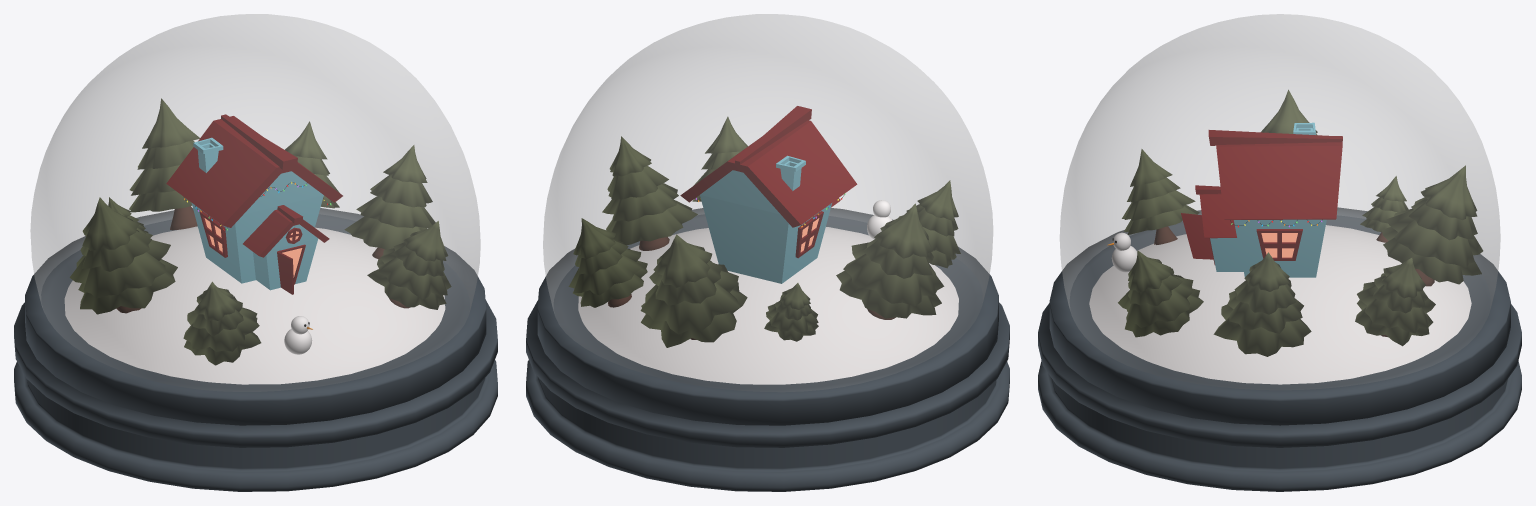
Rendered from EsferaNavidadRA2.glb.
3 views of the same model, side by side, from view 1: azimuth 30°, elevation 25°; view 2: azimuth 150°, elevation 25°; view 3: azimuth 270°, elevation 25° (orthographic).
Visible parts, largest first — view 1: esfera, Base, Cubo, Plano.001, Plano, Cono.005, Cono.007, Plano.007, Cono.004, Cono.021, Cono.001, Cono.017 (+21 smaller); view 2: esfera, Base, Cubo, Plano, Plano.001, Cono.025, Cono.005, Cono.016, Cono.027, Cono.007, Cono.004, Cono.024 (+17 smaller); view 3: esfera, Base, Cubo, Plano.001, Plano, Cono.025, Cono.016, Cono.024, Cono.021, Cono.027, Cono.013, Cono.017 (+20 smaller).
Boxes of the visible parts, x1,y1,x2,y2 form: esfera: (30, 14, 480, 391); Base: (14, 208, 497, 491); Cubo: (64, 226, 445, 384); Plano.001: (166, 116, 342, 227); Plano: (191, 171, 323, 283); Cono.005: (69, 240, 170, 298); Cono.007: (82, 197, 139, 250); Plano.007: (253, 224, 318, 290); Cono.004: (78, 259, 177, 314); Cono.021: (378, 248, 451, 299); Cono.001: (183, 300, 259, 351); Cono.017: (356, 196, 435, 228); esfera: (543, 14, 992, 391); Base: (526, 208, 1009, 491); Cubo: (578, 227, 958, 384); Plano: (700, 170, 831, 283); Plano.001: (680, 120, 857, 227); Cono.025: (640, 264, 740, 334); Cono.005: (843, 242, 944, 306); Cono.016: (606, 200, 697, 245); Cono.027: (653, 234, 712, 287); Cono.007: (874, 203, 932, 258); Cono.004: (836, 270, 941, 318); Cono.024: (641, 282, 747, 347); esfera: (1060, 14, 1500, 389); Base: (1038, 207, 1521, 491); Cubo: (1089, 225, 1471, 384); Plano.001: (1216, 136, 1342, 219); Plano: (1234, 219, 1326, 277); Cono.025: (1386, 208, 1483, 267); Cono.016: (1213, 304, 1311, 356); Cono.024: (1381, 227, 1481, 284); Cono.021: (1118, 274, 1193, 327); Cono.027: (1421, 165, 1477, 220); Cono.013: (1357, 281, 1435, 333); Cono.017: (1227, 291, 1303, 333).
Bounding box in the file's own units: 12.75 × 10.22 × 12.75.
